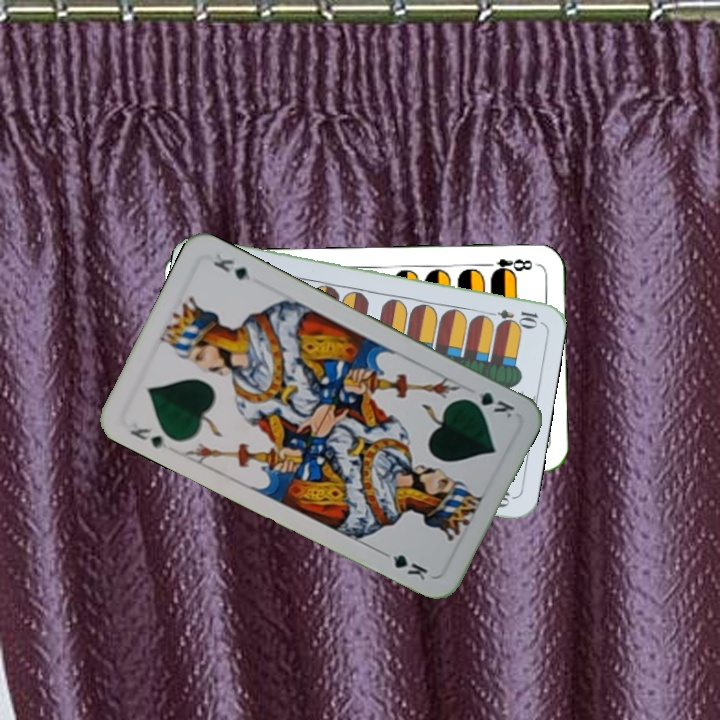E10: (481, 305, 541, 328)
E8: (480, 254, 535, 278)
GK: (460, 388, 518, 422), (125, 423, 170, 452)
